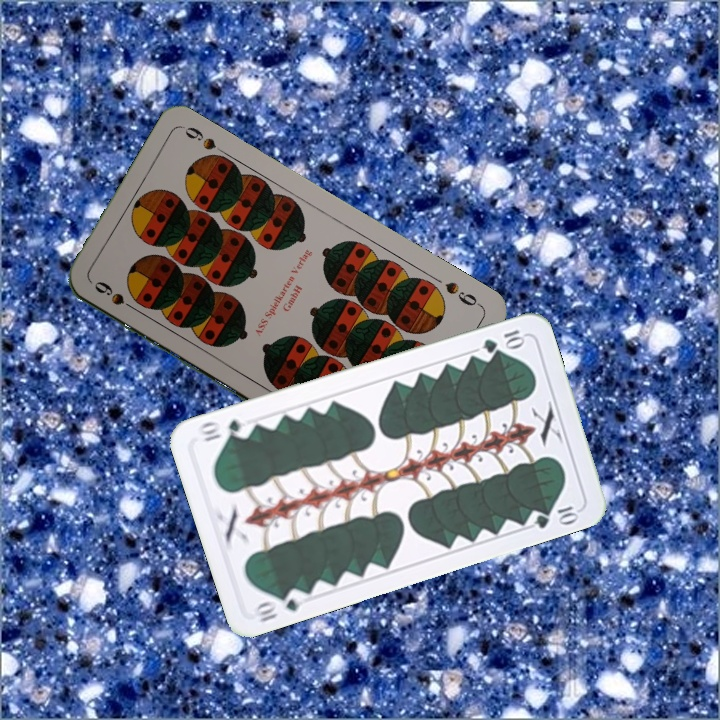G10: (249, 585, 309, 625), (478, 325, 528, 356)
S9: (90, 278, 142, 315), (441, 277, 483, 309)
